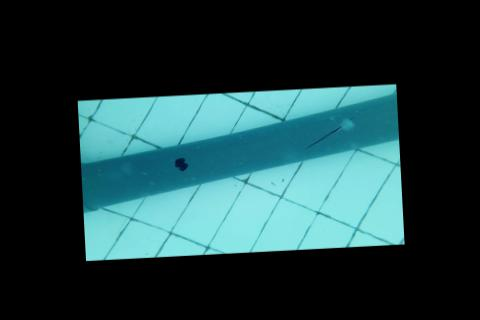kebocoran: (170, 156, 189, 173)
keretakan: (301, 118, 355, 151)
